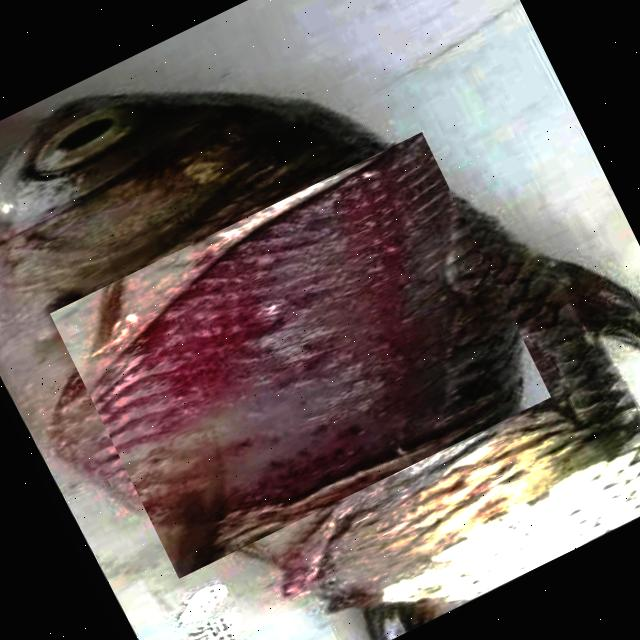Aeromonas Septicemia: (0, 96, 640, 640)
